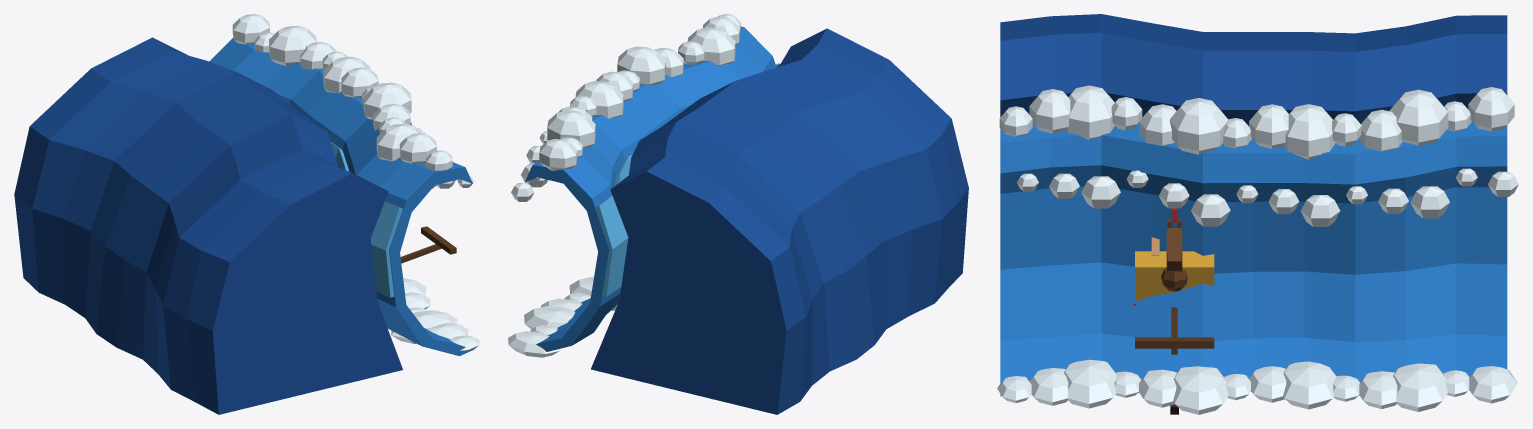
Rendered from chasers.glb.
The picture shows the model from 3 angles, left to right: view 1: azimuth 30°, elevation 25°; view 2: azimuth 150°, elevation 25°; view 3: azimuth 270°, elevation 25°; orthographic projection. The views are drawn at different scales.
Visible parts, largest first — view 1: Wave, Chariot; view 2: Wave; view 3: Wave, Chariot, Horse.
Boxes of the visible parts, box(x1,y1,x2,y2) form: Wave: box(14, 14, 479, 414); Chariot: box(400, 226, 456, 263); Wave: box(508, 14, 968, 414); Wave: box(997, 14, 1518, 414); Chariot: box(1133, 237, 1214, 354); Horse: box(1161, 208, 1187, 291).
Bounding box in the file's own units: 5.97 × 4.99 × 6.59.
